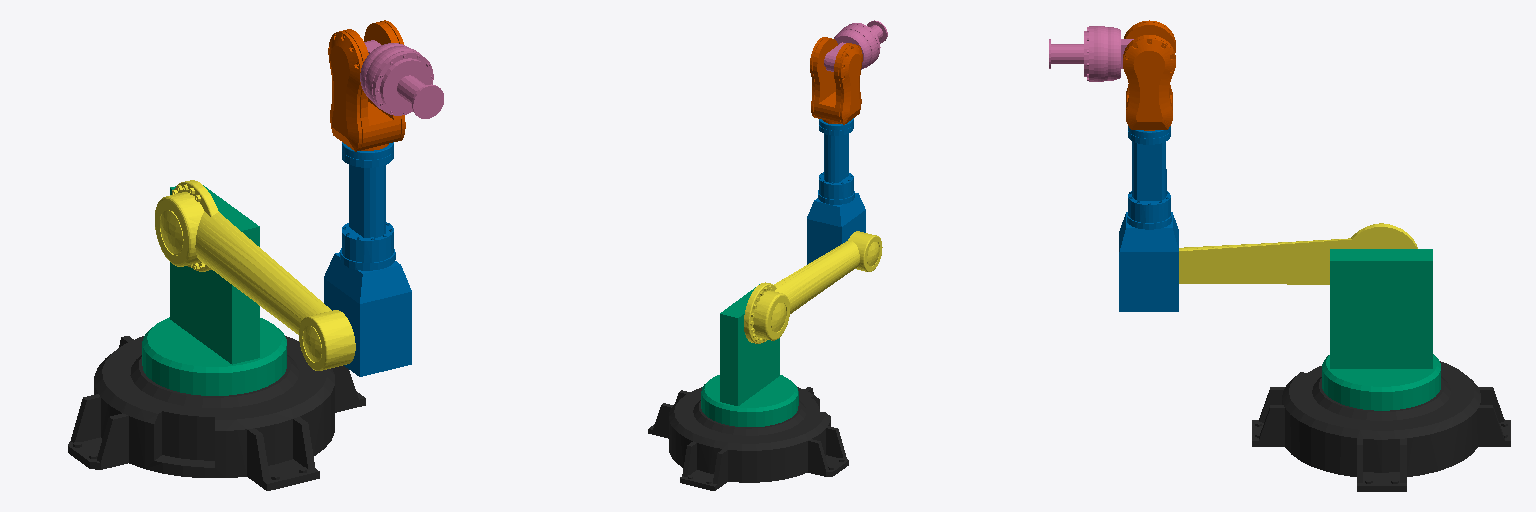
URDF robot description (rarm_5):
<?xml version="1.0" ?>
<!-- =================================================================================== -->
<!-- |    This document was autogenerated by xacro from [local-path]/URC_ws/src/urc_arm_description/urdf/rarm_5.urdf.xacro | -->
<!-- |    EDITING THIS FILE BY HAND IS NOT RECOMMENDED                                 | -->
<!-- =================================================================================== -->
<robot name="rarm_5">
  <link name="world"/>
  <joint name="world_joint" type="fixed">
    <parent link="world"/>
    <child link="base_link"/>
    <origin rpy="0 0 0" xyz="0 0 0"/>
  </joint>
  <link name="base_link">
    <inertial>
      <origin rpy="0 0 0" xyz="0.0014586 0.038724 -0.0014254"/>
      <mass value="500.7738"/>
      <inertia ixx="3.6438" ixy="-0.0034695" ixz="-0.079994" iyy="6.6456" iyz="0.0041166" izz="3.6402"/>
    </inertial>
    <visual>
      <origin rpy="0 0 0" xyz="0 0 0"/>
      <geometry>
        <mesh filename="package://urc_arm_description/meshes/base_link.STL"/>
      </geometry>
      <material name="dark_grey">
        <color rgba="0.2 0.2 0.2 1"/>
      </material>
    </visual>
    <collision>
      <origin rpy="0 0 0" xyz="0 0 0"/>
      <geometry>
        <mesh filename="package://urc_arm_description/meshes/base_link.STL"/>
      </geometry>
    </collision>
  </link>
  <link name="link_1">
    <inertial>
      <origin rpy="0 0 0" xyz="0 0.077 0"/>
      <mass value="2.019"/>
      <inertia ixx="0.01" ixy="0" ixz="0" iyy="0.006" iyz="0" izz="0.012"/>
    </inertial>
    <visual>
      <origin rpy="0 0 0" xyz="0 0 0"/>
      <geometry>
        <mesh filename="package://urc_arm_description/meshes/link_1.STL"/>
      </geometry>
    </visual>
    <collision>
      <origin rpy="0 0 0" xyz="0 0 0"/>
      <geometry>
        <mesh filename="package://urc_arm_description/meshes/link_1.STL"/>
      </geometry>
    </collision>
  </link>
  <joint name="joint_1" type="continuous">
    <origin rpy="1.5708 0 1.5708" xyz="0 0 0.085"/>
    <parent link="base_link"/>
    <child link="link_1"/>
    <axis xyz="0 1 0"/>
  </joint>
  <link name="link_2">
    <inertial>
      <origin rpy="0 0 0" xyz="-0.147 0.036 0"/>
      <mass value="0.975"/>
      <inertia ixx="0.0005" ixy="0" ixz="0" iyy="0.018" iyz="0" izz="0.018"/>
    </inertial>
    <visual>
      <origin rpy="0 0 0" xyz="0 0 0"/>
      <geometry>
        <mesh filename="package://urc_arm_description/meshes/link_2.STL"/>
      </geometry>
    </visual>
    <collision>
      <origin rpy="0 0 0" xyz="0 0 0"/>
      <geometry>
        <mesh filename="package://urc_arm_description/meshes/link_2.STL"/>
      </geometry>
    </collision>
  </link>
  <joint name="joint_2" type="continuous">
    <origin rpy="-1.5708 0 0.034375" xyz="0 0.197 0"/>
    <parent link="link_1"/>
    <child link="link_2"/>
    <axis xyz="0 -1 0"/>
  </joint>
  <link name="link_3">
    <inertial>
      <origin rpy="0 0 0" xyz="0.017 0 0.068"/>
      <mass value="1.187"/>
      <inertia ixx="0.006" ixy="0" ixz="0" iyy="0.006" iyz="0" izz="0.001"/>
    </inertial>
    <visual>
      <origin rpy="0 0 0" xyz="0 0 0"/>
      <geometry>
        <mesh filename="package://urc_arm_description/meshes/link_3.STL"/>
      </geometry>
    </visual>
    <collision>
      <origin rpy="0 0 0" xyz="0 0 0"/>
      <geometry>
        <mesh filename="package://urc_arm_description/meshes/link_3.STL"/>
      </geometry>
    </collision>
  </link>
  <joint name="joint_3" type="continuous">
    <origin rpy="-0.034375 0 -1.5708" xyz="-0.35 0 0"/>
    <parent link="link_2"/>
    <child link="link_3"/>
    <axis xyz="1 0 0"/>
  </joint>
  <link name="link_4">
    <inertial>
      <origin rpy="0 0 0" xyz="0 0 -0.084"/>
      <mass value="0.495"/>
      <inertia ixx="0.001" ixy="0" ixz="0" iyy="0.001" iyz="0" izz="0.0005"/>
    </inertial>
    <visual>
      <origin rpy="0 0 0" xyz="0 0 0"/>
      <geometry>
        <mesh filename="package://urc_arm_description/meshes/link_4.STL"/>
      </geometry>
    </visual>
    <collision>
      <origin rpy="0 0 0" xyz="0 0 0"/>
      <geometry>
        <mesh filename="package://urc_arm_description/meshes/link_4.STL"/>
      </geometry>
    </collision>
  </link>
  <joint name="joint_4" type="continuous">
    <origin rpy="3.1416 0 0" xyz="0.0175 0 0.23901"/>
    <parent link="link_3"/>
    <child link="link_4"/>
    <axis xyz="0 0 1"/>
  </joint>
  <link name="link_5">
    <inertial>
      <origin rpy="0 0 0" xyz="0 -0.064 0"/>
      <mass value="0.401"/>
      <inertia ixx="0.0006" ixy="0" ixz="0" iyy="0.0002" iyz="0" izz="0.0006"/>
    </inertial>
    <visual>
      <origin rpy="0 0 0" xyz="0 0 0"/>
      <geometry>
        <mesh filename="package://urc_arm_description/meshes/link_5.STL"/>
      </geometry>
    </visual>
    <collision>
      <origin rpy="0 0 0" xyz="0 0 0"/>
      <geometry>
        <mesh filename="package://urc_arm_description/meshes/link_5.STL"/>
      </geometry>
    </collision>
  </link>
  <joint name="joint_5" type="continuous">
    <origin rpy="3.1416 0 0" xyz="0 0 -0.135"/>
    <parent link="link_4"/>
    <child link="link_5"/>
    <axis xyz="1 0 0"/>
  </joint>
  <gazebo reference="link_1">
    <self_collide>false</self_collide>
  </gazebo>
  <gazebo reference="link_2">
    <self_collide>false</self_collide>
  </gazebo>
  <gazebo reference="link_3">
    <self_collide>false</self_collide>
  </gazebo>
  <gazebo reference="link_4">
    <self_collide>false</self_collide>
  </gazebo>
  <gazebo reference="link_5">
    <self_collide>false</self_collide>
  </gazebo>
  <ros2_control name="GazeboSystem" type="system">
    <hardware>
      <plugin>gz_ros2_control/GazeboSimSystem</plugin>
    </hardware>
    <joint name="joint_1">
      <command_interface name="position"/>
      <state_interface name="position"/>
      <state_interface name="velocity"/>
    </joint>
    <joint name="joint_2">
      <command_interface name="position"/>
      <state_interface name="position"/>
      <state_interface name="velocity"/>
    </joint>
    <joint name="joint_3">
      <command_interface name="position"/>
      <state_interface name="position"/>
      <state_interface name="velocity"/>
    </joint>
    <joint name="joint_4">
      <command_interface name="position"/>
      <state_interface name="position"/>
      <state_interface name="velocity"/>
    </joint>
    <joint name="joint_5">
      <command_interface name="position"/>
      <state_interface name="position"/>
      <state_interface name="velocity"/>
    </joint>
  </ros2_control>
  <gazebo>
    <plugin filename="gz_ros2_control-system" name="gz_ros2_control::GazeboSimROS2ControlPlugin">
      <parameters>[local-path]/URC_ws/install/moveit_demo/share/moveit_demo/config/ros2_controllers.yaml</parameters>
    </plugin>
  </gazebo>
  <gazebo reference="link_5">
    <sensor name="yolo_camera" type="camera">
      <camera>
        <horizontal_fov>1.3962634</horizontal_fov>
        <image>
          <width>1024</width>
          <height>1024</height>
          <format>R8G8B8</format>
        </image>
        <clip>
          <near>0.02</near>
          <far>300</far>
        </clip>
      </camera>
      <always_on>1</always_on>
      <update_rate>30</update_rate>
      <visualize>true</visualize>
      <topic>camera/image_raw</topic>
    </sensor>
  </gazebo>
</robot>

--- Render facts (derived) ---
Views: 3 orthographic renders of the robot side by side, from view 1: azimuth 30°, elevation 25°; view 2: azimuth 150°, elevation 25°; view 3: azimuth 270°, elevation 25°.
Robot: rarm_5 — 7 links, 6 joints (5 continuous, 1 fixed); root link world; default pose: every joint at zero.
Visible links, largest first — view 1: base_link, link_1, link_2, link_3, link_4, link_5; view 2: base_link, link_1, link_2, link_3, link_4, link_5; view 3: base_link, link_1, link_3, link_2, link_4, link_5.
Boxes of the visible links, x1=… form: base_link: x1=68, y1=336, x2=365, y2=490; link_1: x1=142, y1=185, x2=286, y2=395; link_2: x1=155, y1=180, x2=355, y2=370; link_3: x1=324, y1=142, x2=411, y2=376; link_4: x1=328, y1=20, x2=405, y2=151; link_5: x1=360, y1=40, x2=443, y2=118; base_link: x1=648, y1=387, x2=848, y2=490; link_1: x1=701, y1=284, x2=798, y2=426; link_2: x1=744, y1=231, x2=882, y2=343; link_3: x1=807, y1=118, x2=865, y2=264; link_4: x1=810, y1=37, x2=862, y2=124; link_5: x1=824, y1=20, x2=887, y2=71; base_link: x1=1252, y1=361, x2=1510, y2=491; link_1: x1=1322, y1=249, x2=1440, y2=410; link_3: x1=1119, y1=126, x2=1178, y2=311; link_2: x1=1179, y1=223, x2=1417, y2=284; link_4: x1=1123, y1=20, x2=1175, y2=130; link_5: x1=1049, y1=26, x2=1133, y2=81.
Size in the robot's own frame: 0.3905 by 0.6968 by 0.6865 metres.
6 mesh visuals loaded from 6 distinct referenced files (6 binary STL).